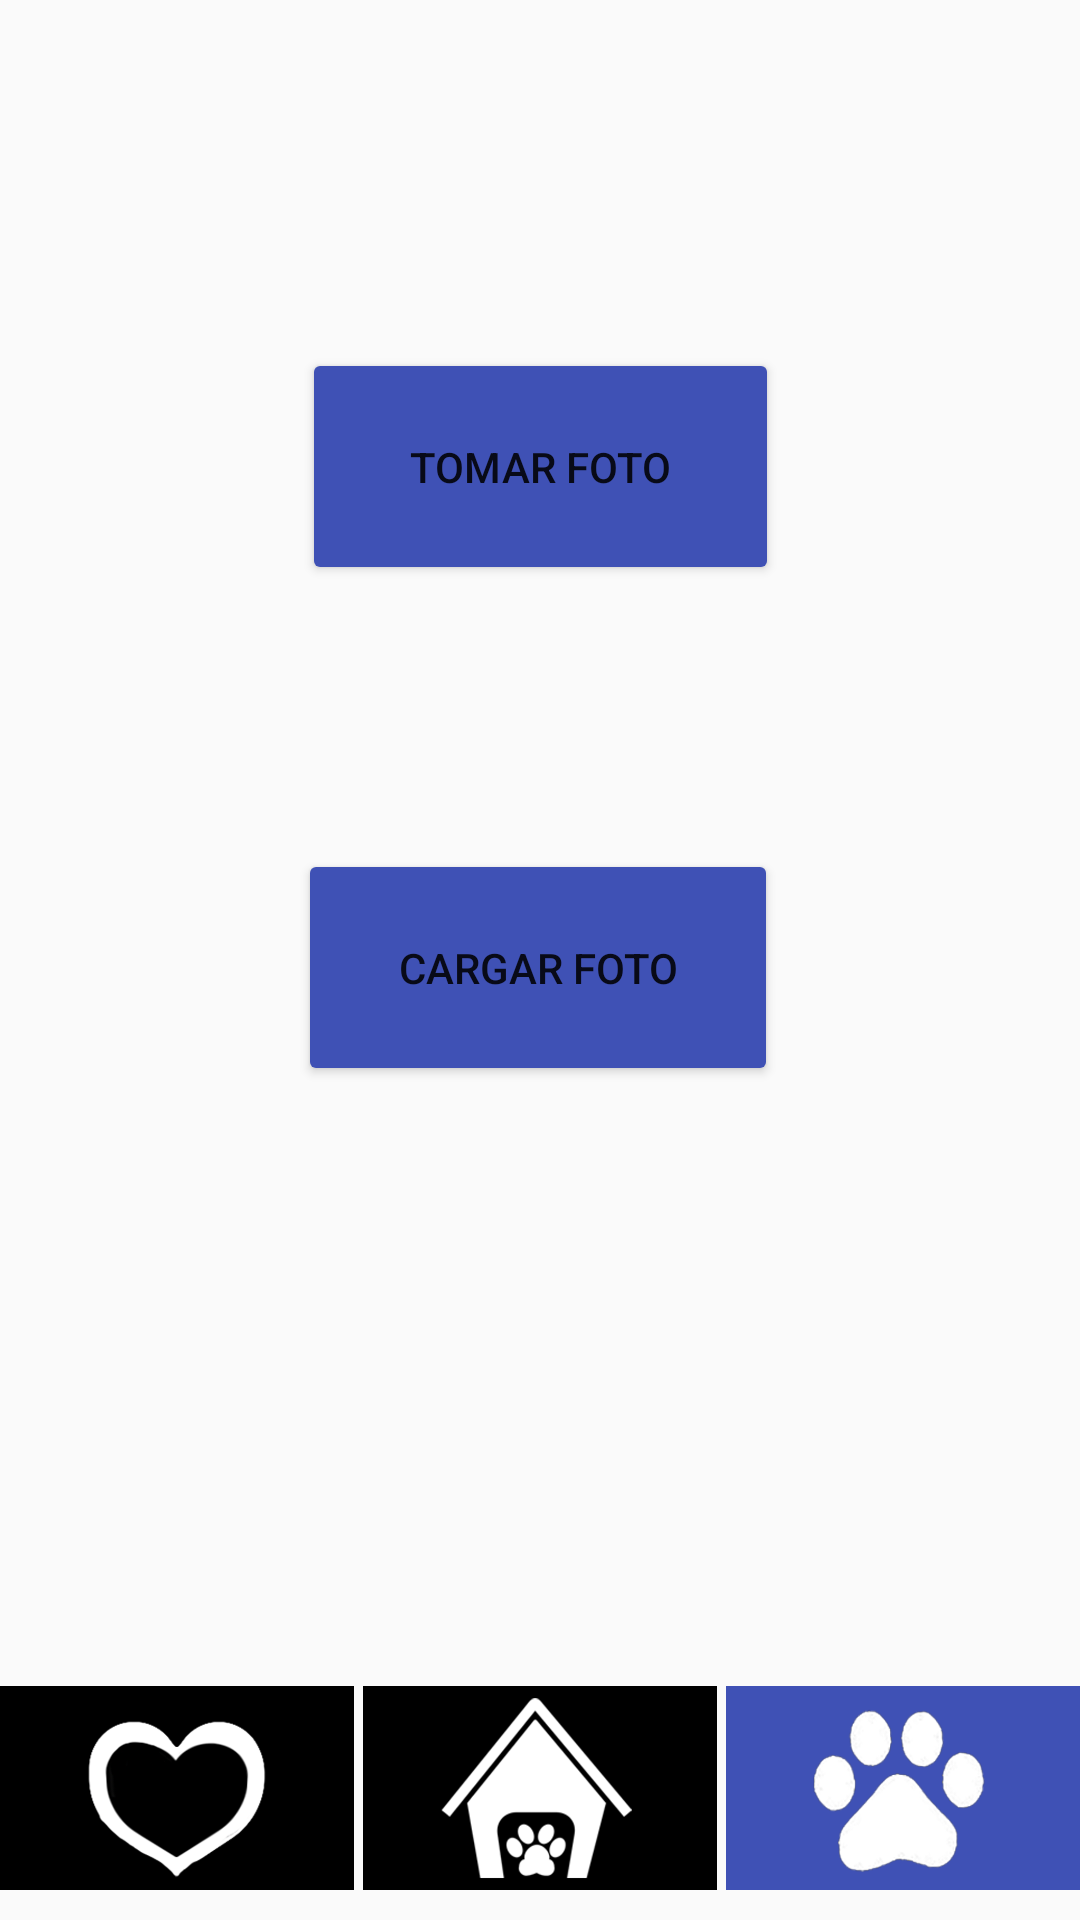

Point at icon controls on the screen. Image size 1080w x 1920h, points as (x=x, y=y).
home: (x=540, y=1788)
kokoro: (x=177, y=1788)
patitas: (x=903, y=1788)
